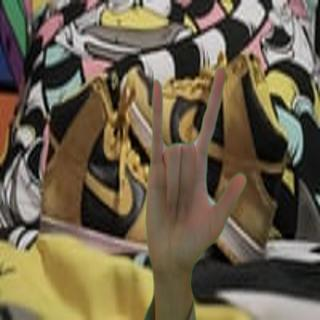ILY: (9, 77, 124, 224)
